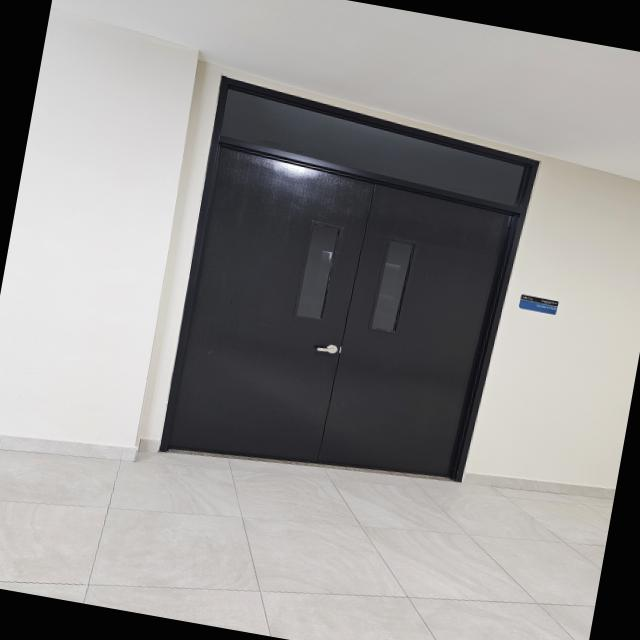door: (142, 133, 537, 500)
footpath: (0, 445, 603, 640)
